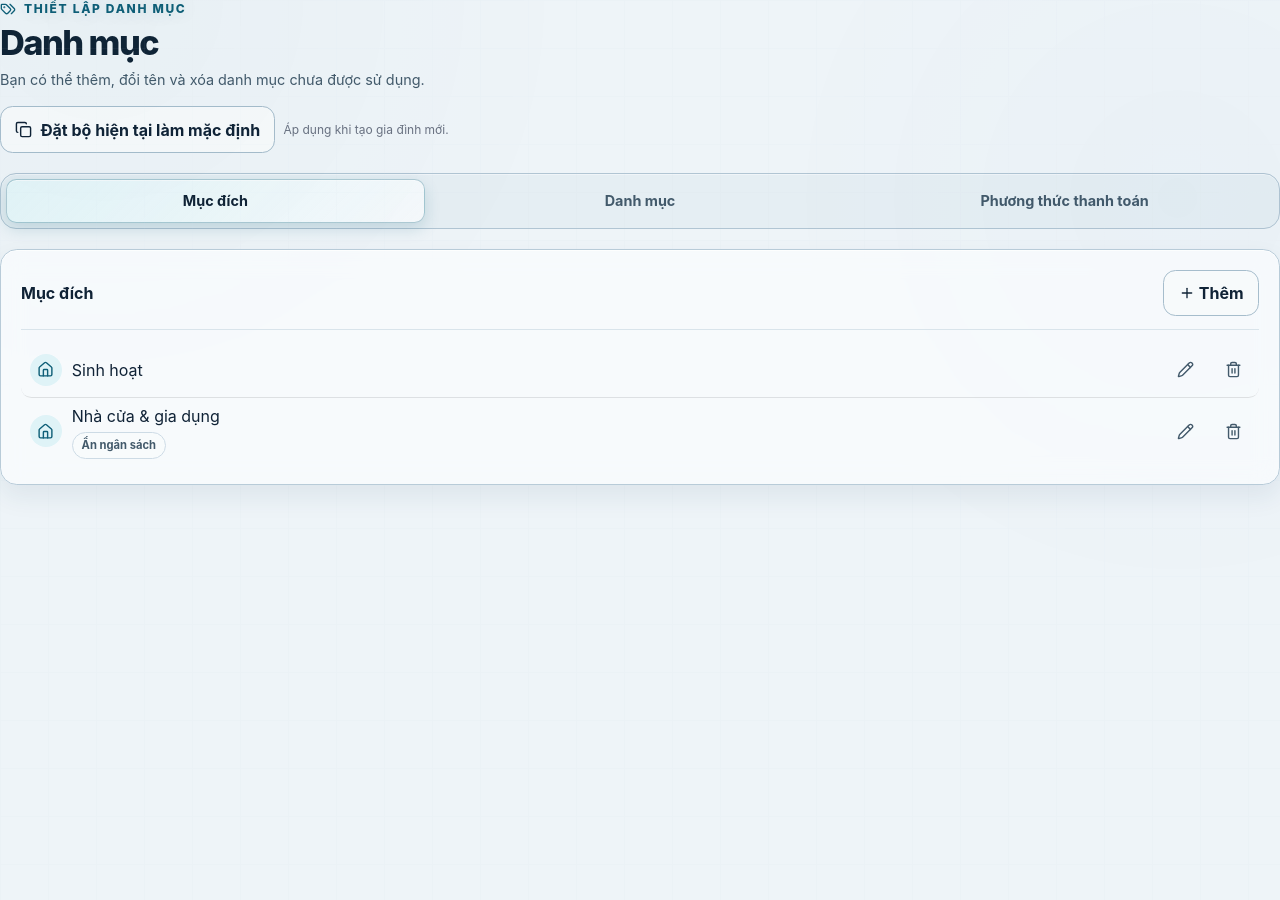
Quản lý danh mục › cho owner đặt bộ danh mục hiện tại làm mặc định cho gia đình mới
Click the button "Đặt bộ hiện tại làm mặc định": (138, 130) [0,106,276,153]
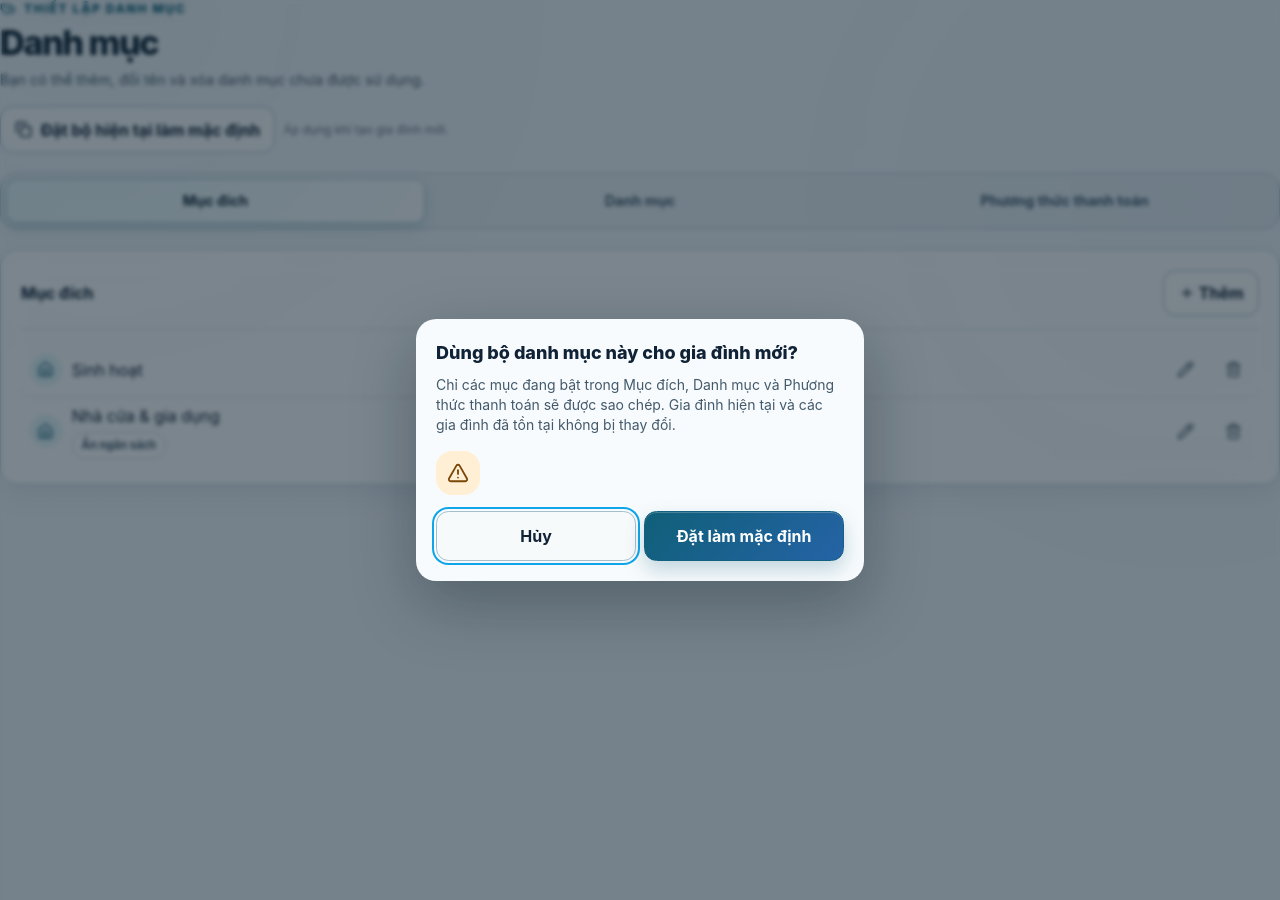
Expected: the dialog shows "Dùng bộ danh mục này cho gia đình mới?", [436,342,798,364]
Click the button "Đặt làm mặc định": (744, 536) [644,512,844,560]
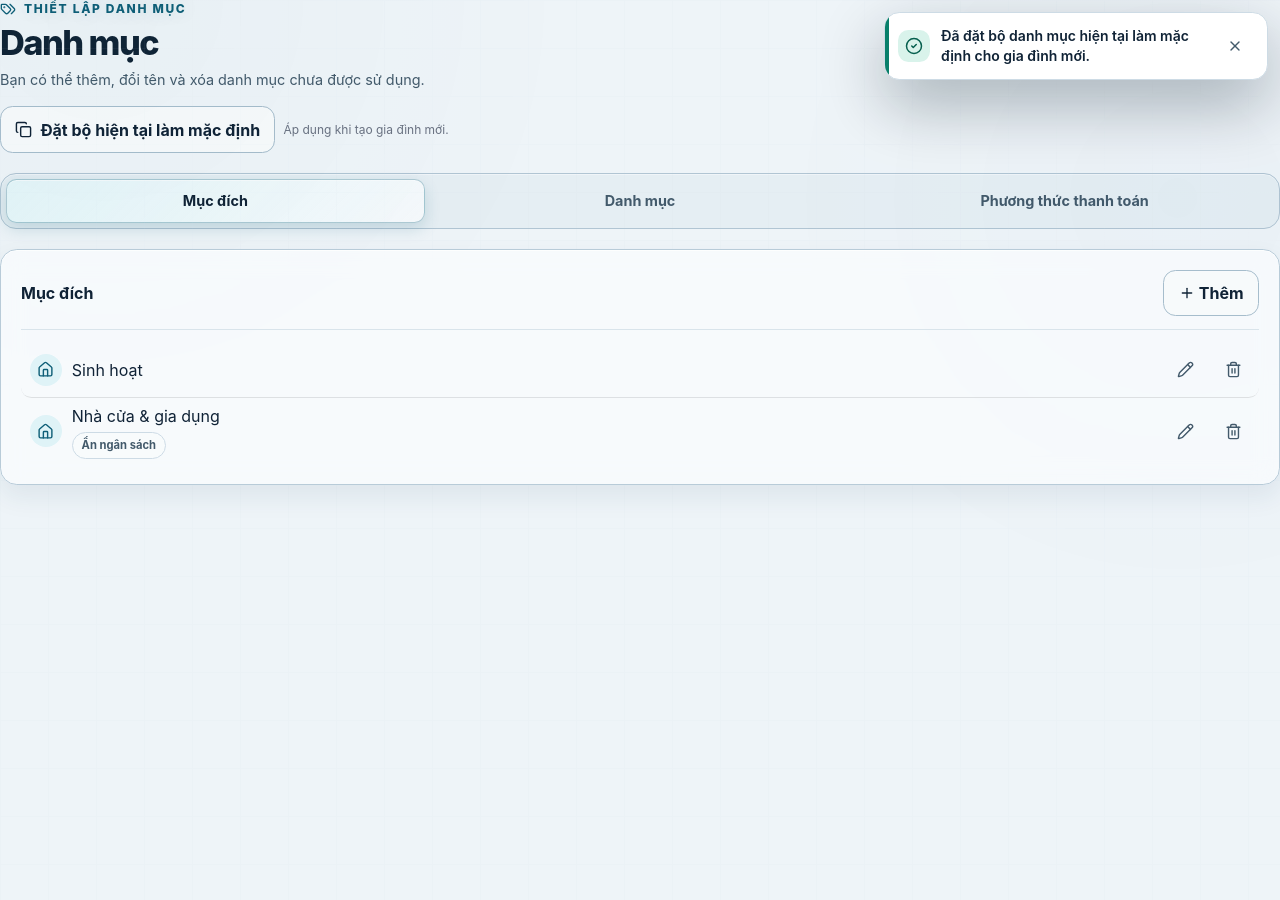
Expected: the message reads "Đã đặt bộ danh mục hiện tại làm mặc định cho gia đình mới.", [941,27,1189,64]
